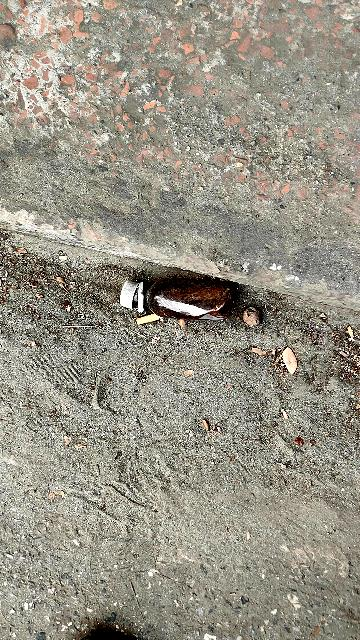bottle: (112, 269, 240, 328)
